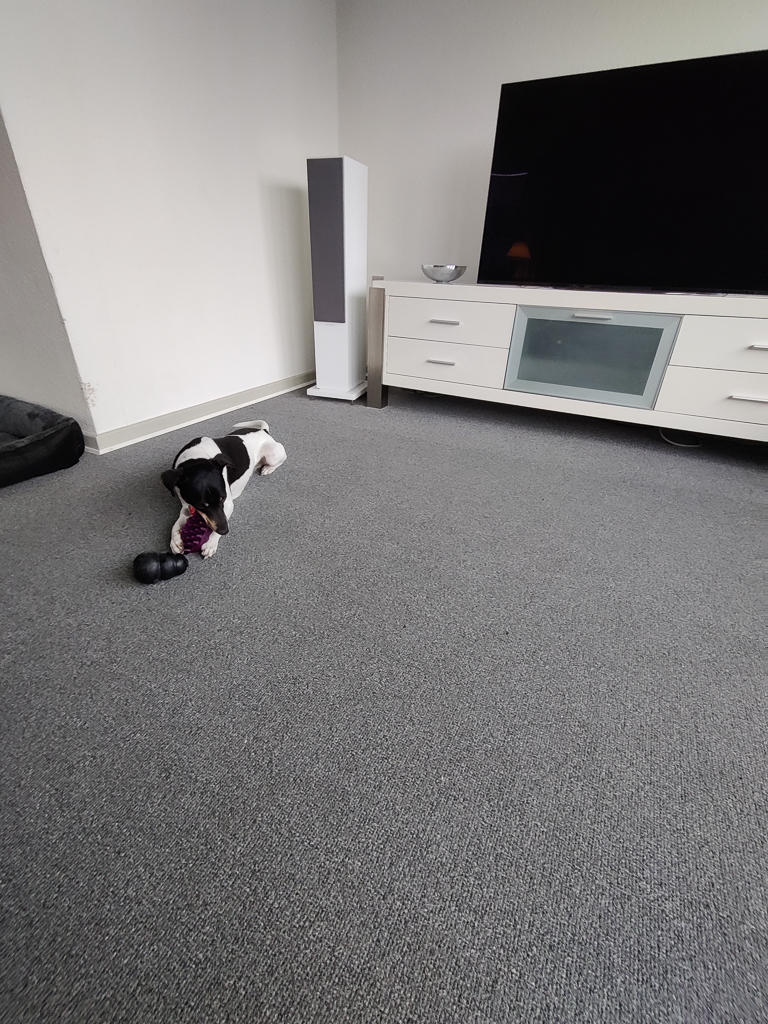Dog: (138, 410, 307, 575)
